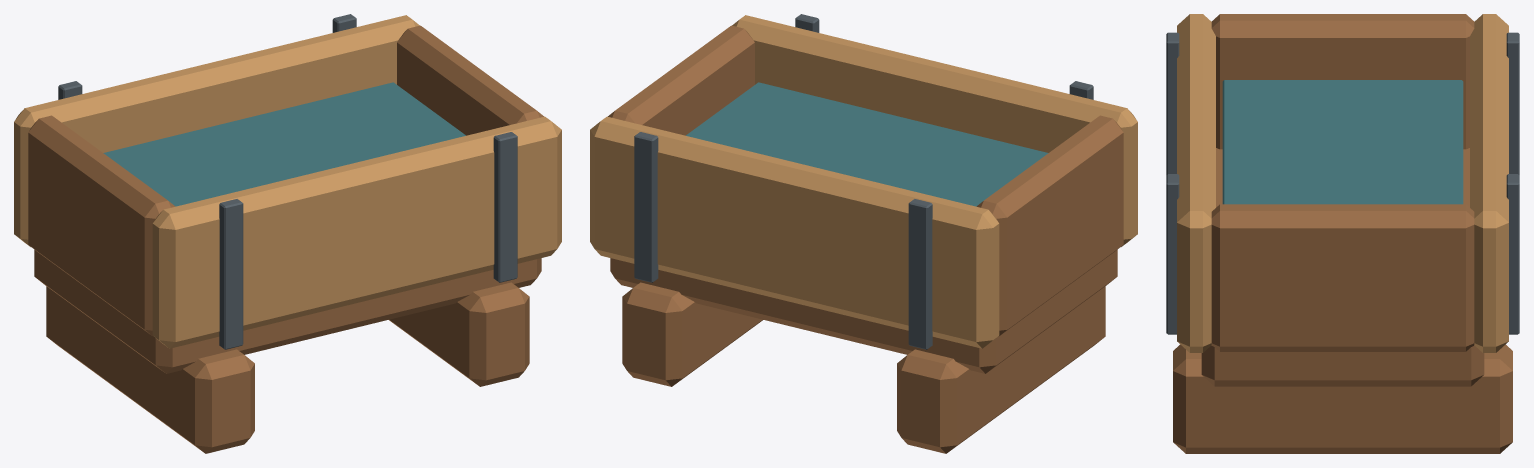
The model's file is smith_trough.glb.
3 views of the same model, side by side, from view 1: azimuth 30°, elevation 25°; view 2: azimuth 150°, elevation 25°; view 3: azimuth 270°, elevation 25° (orthographic). The views are drawn at different scales.
Visible parts, largest first — view 1: smith_trough; view 2: smith_trough; view 3: smith_trough.
Boxes of the visible parts, x1,y1,x2,y2 form: smith_trough: (14,14,561,453); smith_trough: (590,14,1137,453); smith_trough: (1166,14,1519,453).
Size of the model in its own units: 0.94 by 0.56 by 0.675.
